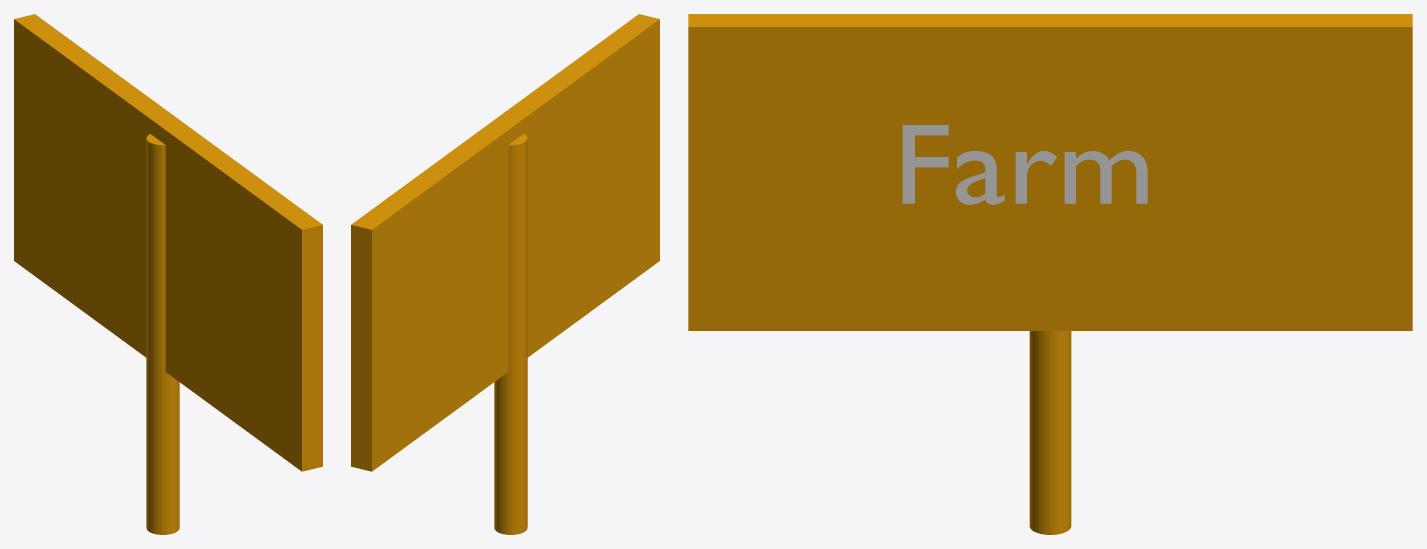
The model's file is Kyltti8.fbx.
3 renders of one model, left to right at view 1: azimuth 30°, elevation 25°; view 2: azimuth 150°, elevation 25°; view 3: azimuth 270°, elevation 25°, orthographic. The views are drawn at different scales.
Parts seen in each view (by area): view 1: Kyltti8, Cylinder.007; view 2: Kyltti8, Cylinder.007; view 3: Kyltti8, Cylinder.007, Text.009.
Part boxes in pixels (box(x1,y1,x2,y2)): Kyltti8: box(14, 14, 322, 471); Cylinder.007: box(146, 134, 179, 534); Kyltti8: box(351, 14, 659, 471); Cylinder.007: box(494, 134, 527, 534); Kyltti8: box(688, 14, 1412, 330); Cylinder.007: box(1029, 331, 1071, 534); Text.009: box(902, 125, 1147, 204).
Bounding box in the file's own units: 36.68 × 442 × 570.
